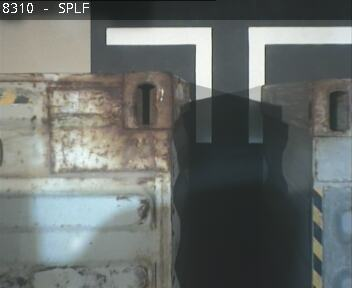groundmarker_1: (106, 25, 352, 142)
